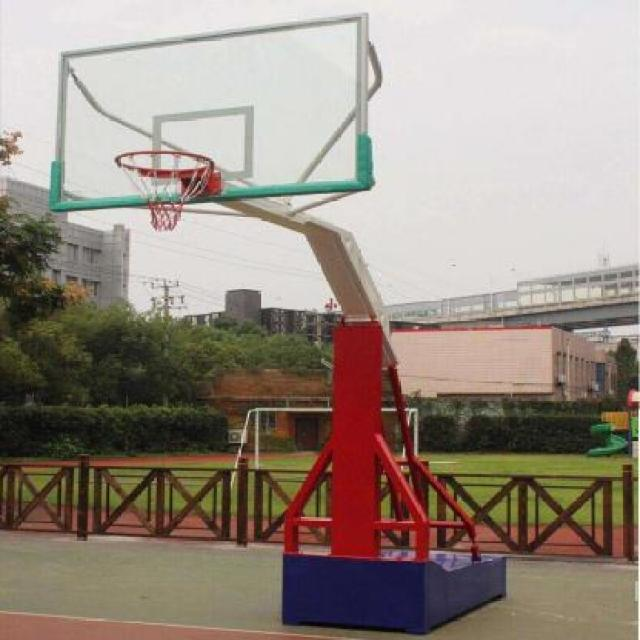rim: (116, 148, 217, 228)
